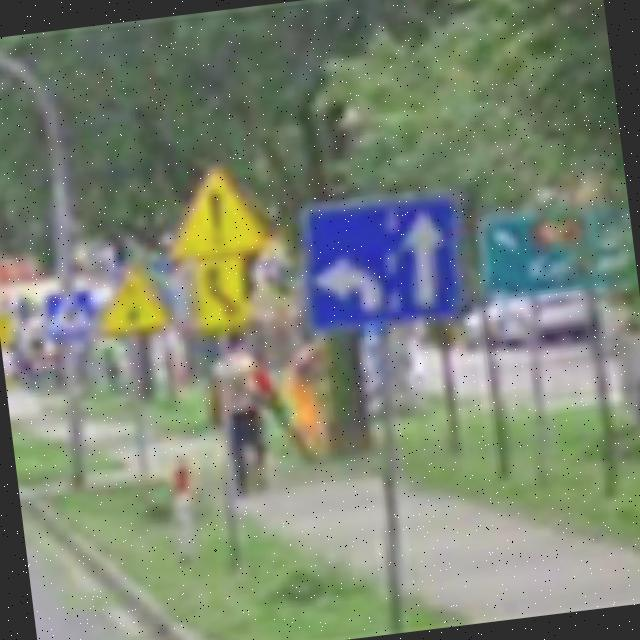Przejscie dla pieszych: (41, 286, 98, 344)
